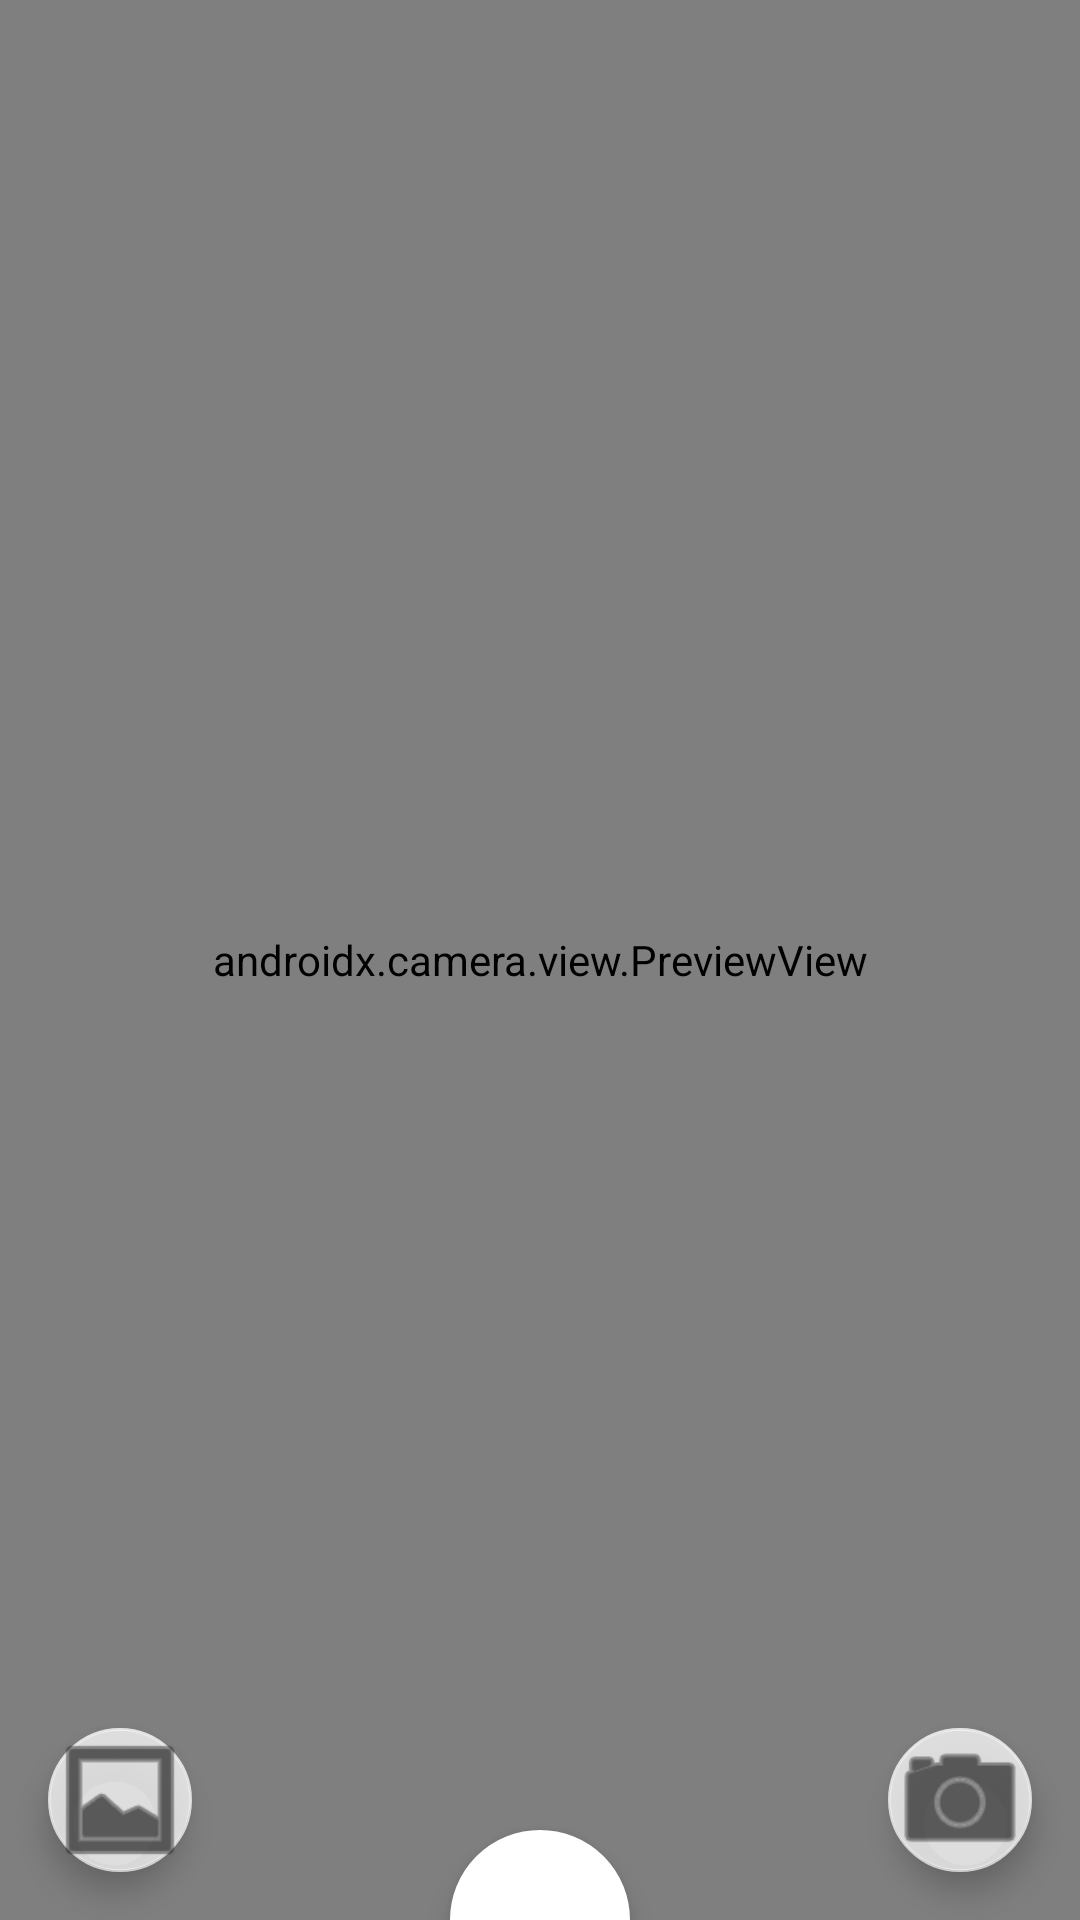

Icon click points for this 1080 x 1920 phone screenshot, format (x=x, y=y):
Open Gallery: (x=120, y=1800)
